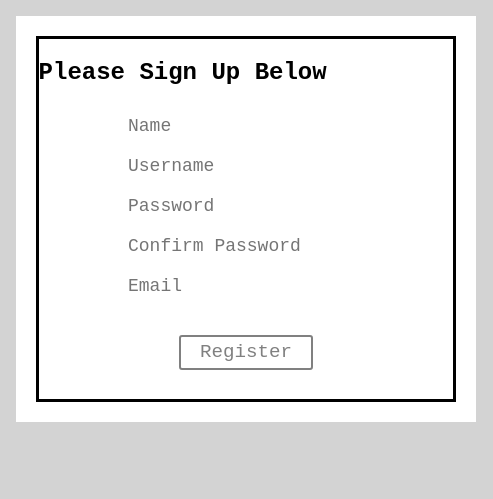
try to register without inputing username, password, or email
Click the button "Register" at (246, 352), box [179,335,313,370]
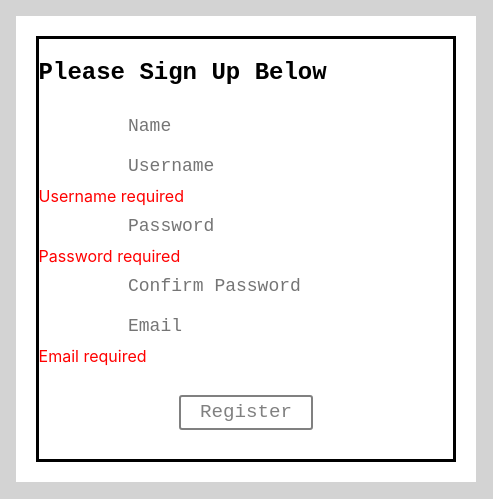
Now the text "Username required" is shown, box [39,186,184,206]
Now the text "Password required" is shown, box [39,246,180,266]
Now the text "Email required" is shown, box [39,346,147,366]
